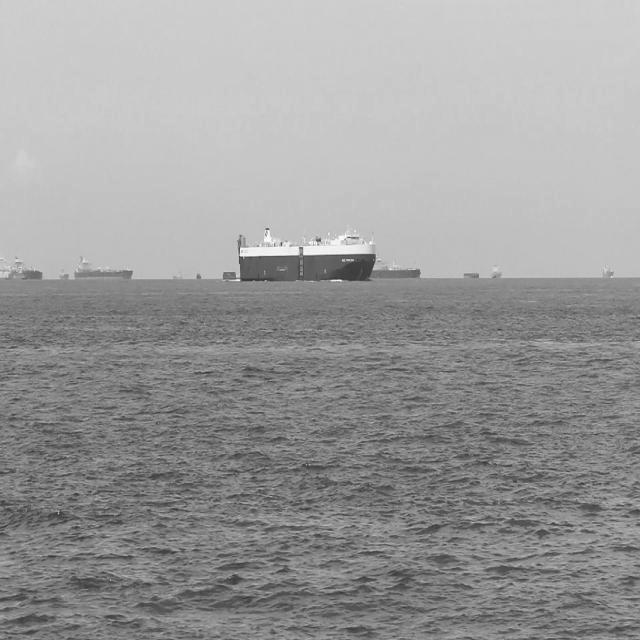ship: (232, 227, 376, 286), (74, 253, 136, 280), (370, 255, 420, 282), (8, 258, 45, 284), (51, 262, 70, 284), (488, 262, 503, 284), (0, 259, 11, 287), (598, 260, 612, 282), (460, 267, 480, 281), (222, 268, 239, 284), (173, 268, 186, 288), (192, 264, 201, 286)
